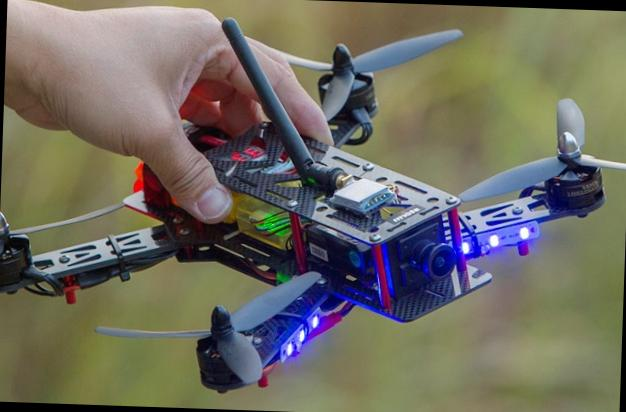drone: (0, 5, 620, 403)
